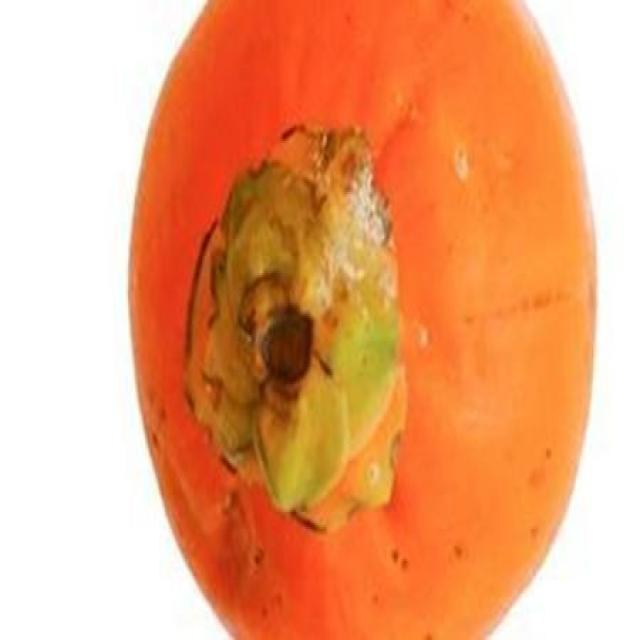good: (127, 0, 599, 638)
